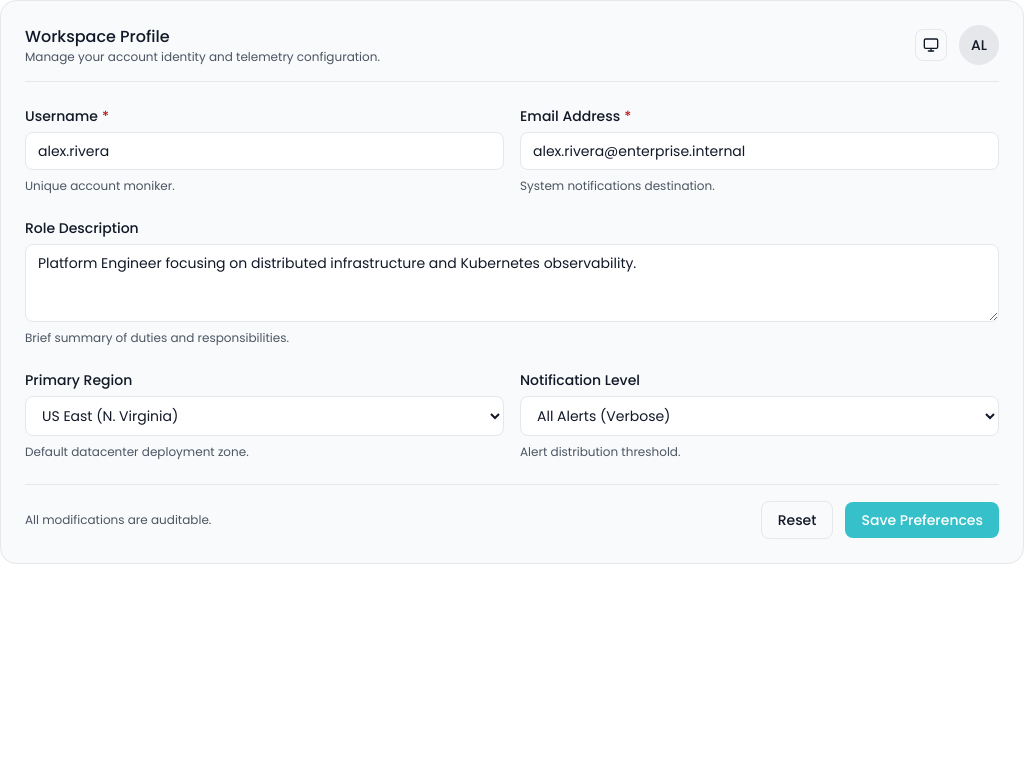
SettingsPanel › submits form with updated values for all controls
Replace the text in the field labelled "Username *" with "new.user" at (264, 151), box [25,132,504,170]
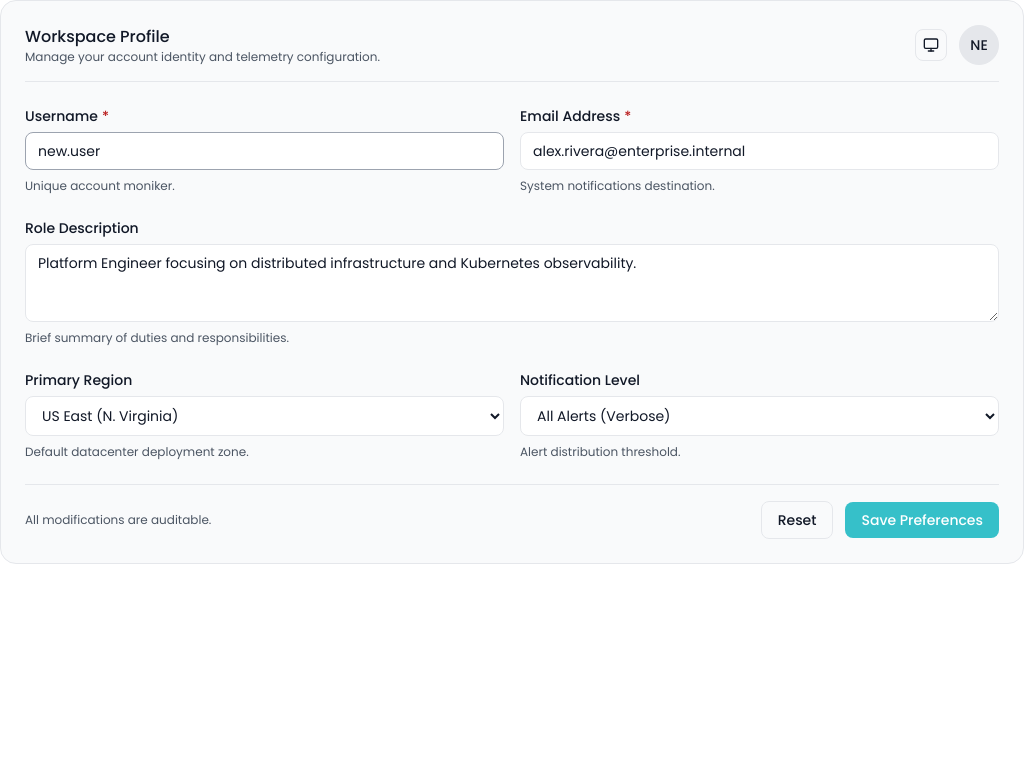
Replace the text in the field labelled "Email Address *" with "new.user@test.org" at (760, 151), box [520,132,999,170]
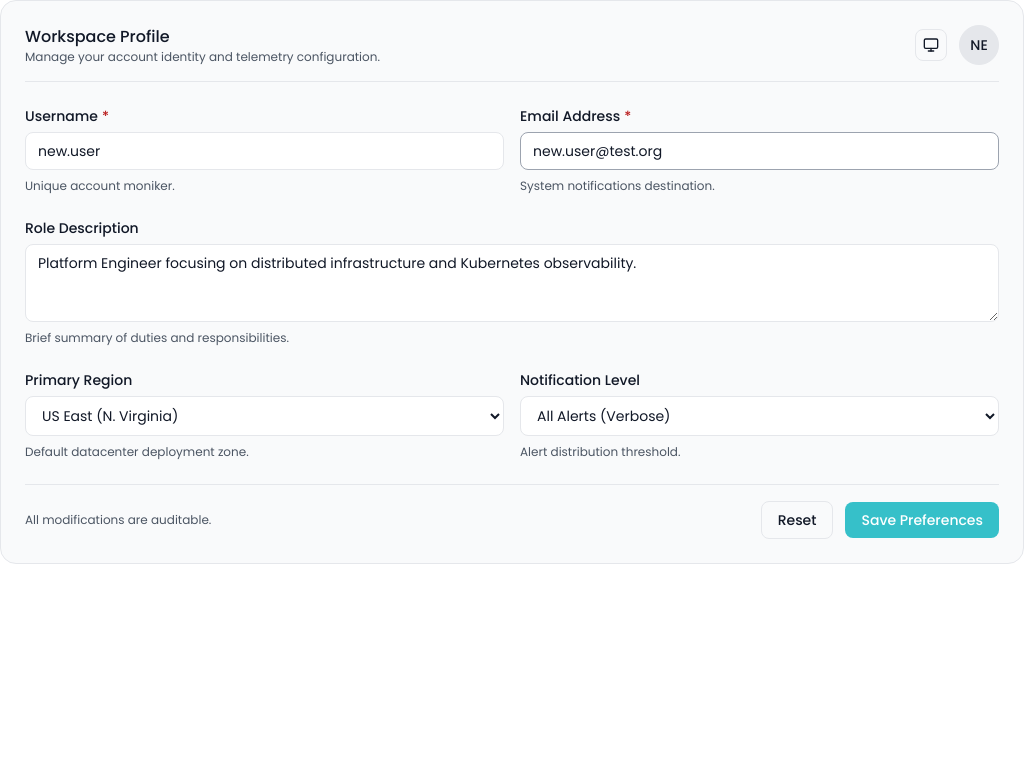
Replace the text in the text box labelled "Role Description" with "New developer bio" at (512, 283), box [25,244,999,322]
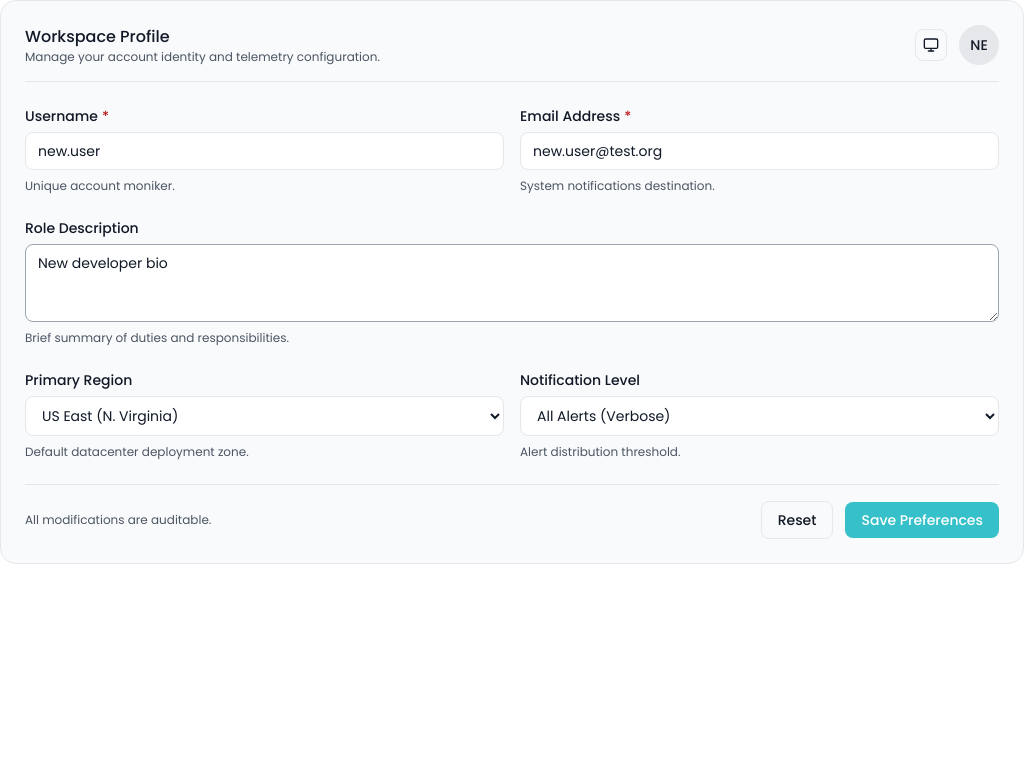
Select "EU (Ireland)" in the dropdown labelled "Primary Region" at (264, 416), box [25,396,504,436]
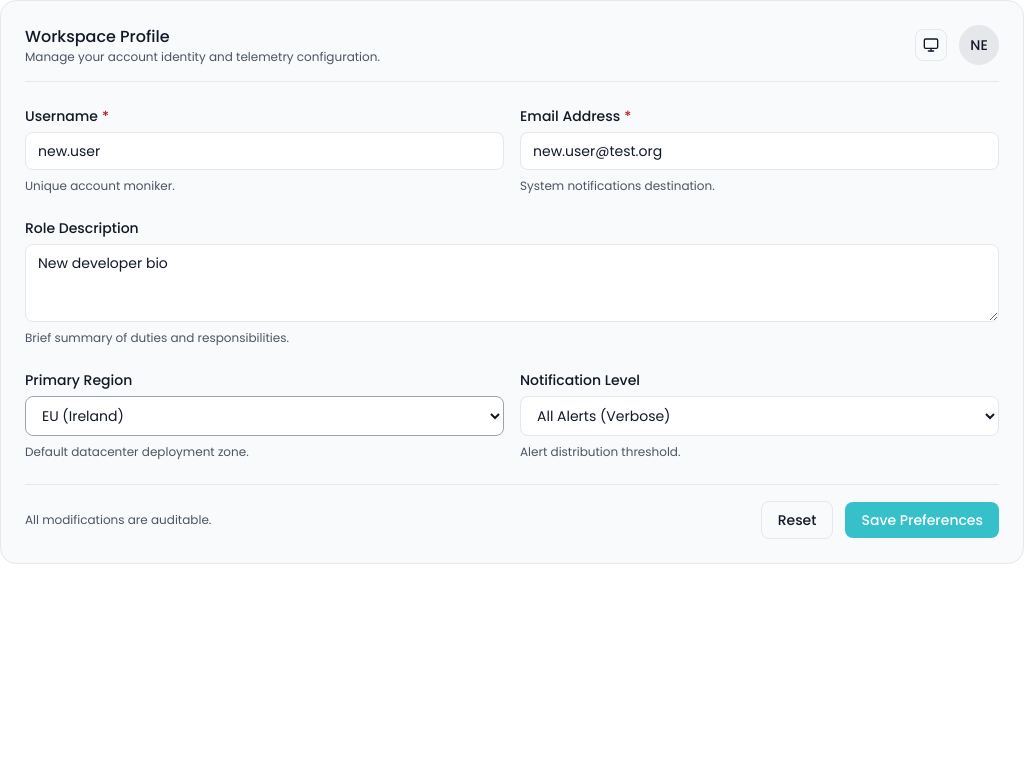
Select "Critical Only" in the dropdown labelled "Notification Level" at (760, 416), box [520,396,999,436]
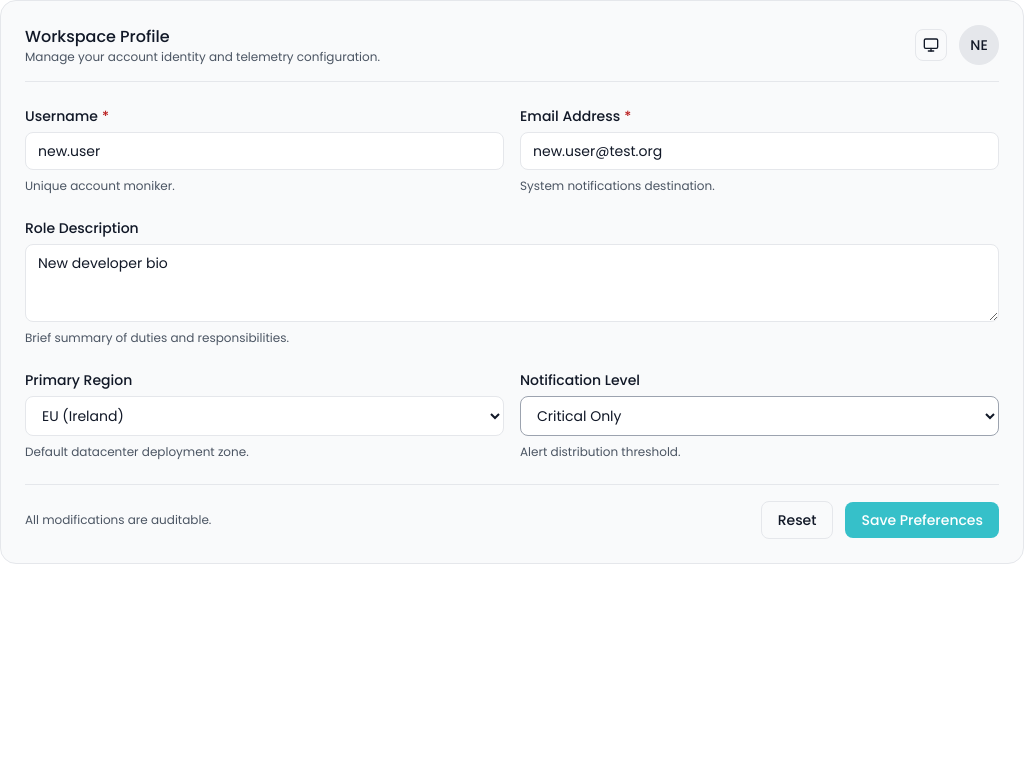
Click the button "Save Preferences" at (922, 520), box [846,502,999,538]
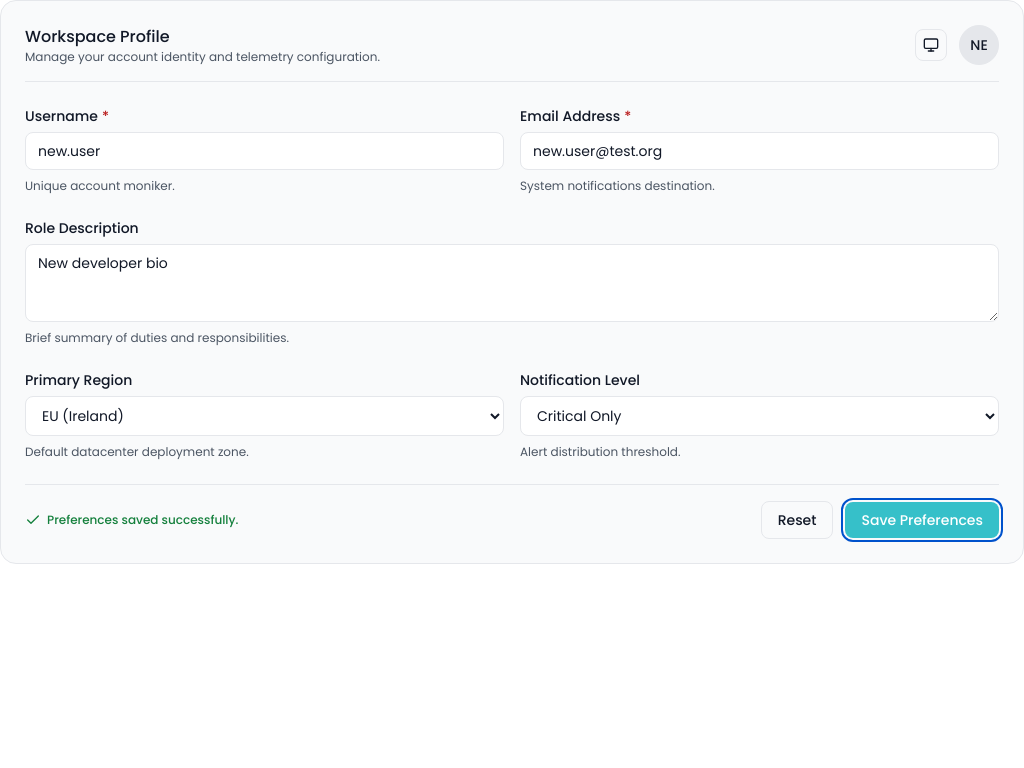
Result: the text "Preferences saved successfully." is shown at [47,512,238,528]
